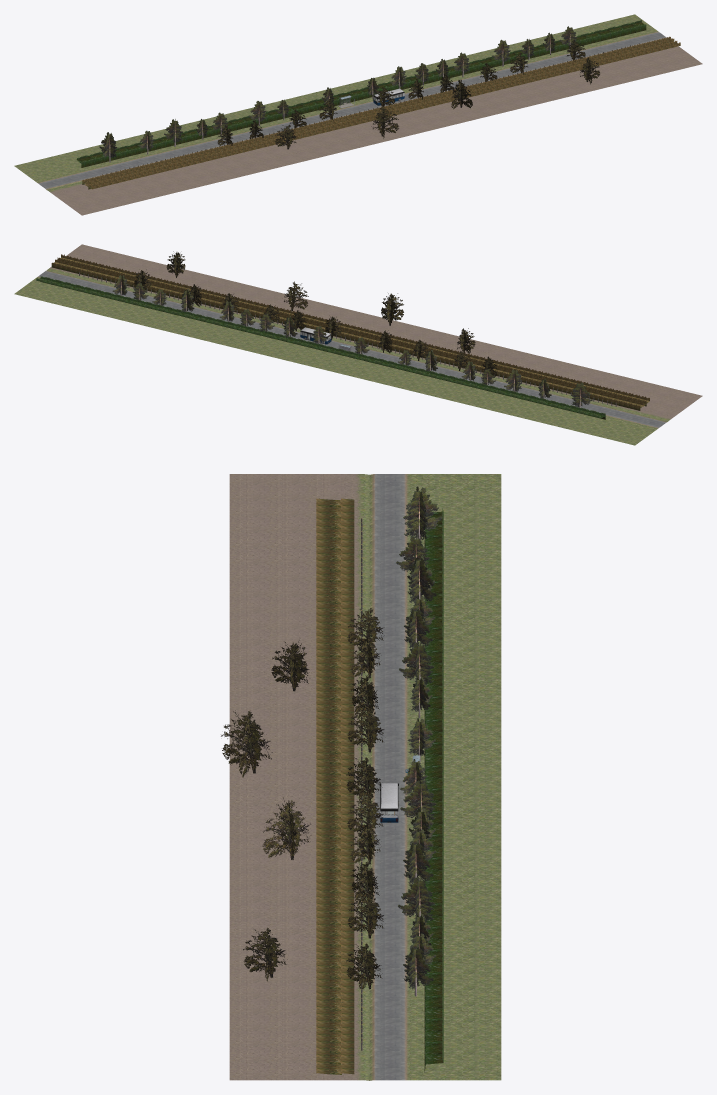
The model's file is bus_stop_2.glb.
The picture shows the model from 3 angles, top to bottom: view 1: azimuth 30°, elevation 25°; view 2: azimuth 150°, elevation 25°; view 3: azimuth 270°, elevation 25°; orthographic projection. The views are drawn at different scales.
Visible parts, largest first — view 1: Ground, Grass_02, Wheat_01, Wheat, Tree_004, Tree_011; view 2: Ground, Wheat, Grass_02, Wheat_01, Tree_004, Fence_01, Tree_011, Tree_01_007; view 3: Ground, Wheat_01, Grass_02, Wheat, Tree_004, Tree_011, Tree_01_007, Tree.001, Tree_002, Tree_01_012, Tree_007, Tree_009.
Boxes of the visible parts, box(x1,y1,x2,y2) form: Ground: box(14, 14, 702, 215); Grass_02: box(76, 20, 646, 167); Wheat_01: box(85, 40, 680, 189); Wheat: box(82, 36, 674, 184); Tree_004: box(371, 107, 398, 138); Tree_011: box(451, 79, 472, 109); Ground: box(14, 244, 702, 445); Wheat: box(51, 259, 643, 410); Grass_02: box(36, 276, 605, 419); Wheat_01: box(57, 254, 649, 406); Tree_004: box(381, 293, 403, 325); Fence_01: box(92, 275, 616, 406); Tree_011: box(284, 281, 308, 310); Tree_01_007: box(571, 382, 592, 407); Ground: box(229, 474, 501, 1080); Wheat_01: box(316, 498, 341, 1074); Grass_02: box(424, 508, 443, 1072); Wheat: box(341, 498, 354, 1074); Tree_004: box(221, 710, 272, 777); Tree_011: box(262, 797, 311, 859); Tree_01_007: box(403, 486, 442, 540); Tree.001: box(243, 927, 287, 981); Tree_002: box(271, 640, 309, 691); Tree_01_012: box(398, 877, 435, 922); Tree_007: box(348, 890, 383, 938); Tree_009: box(346, 943, 382, 989).
Size of the model in its own units: 252 by 15.1 by 50.27.
Materials: 18 (17 with a texture image).
